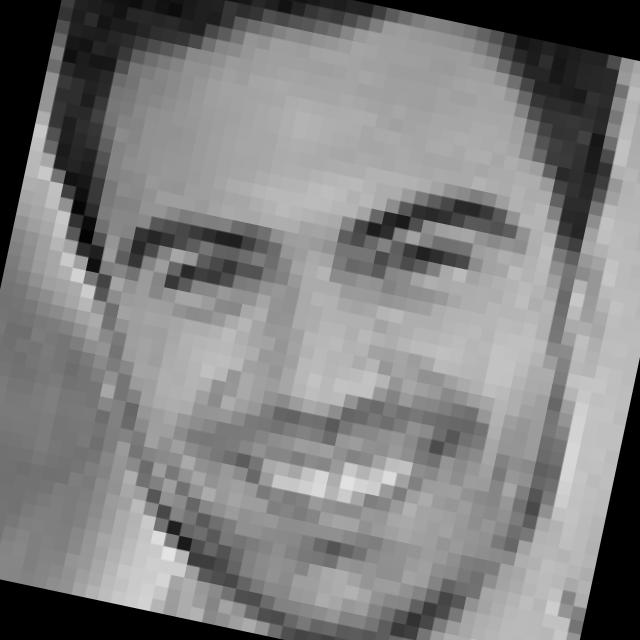happy: (65, 125, 537, 584)
